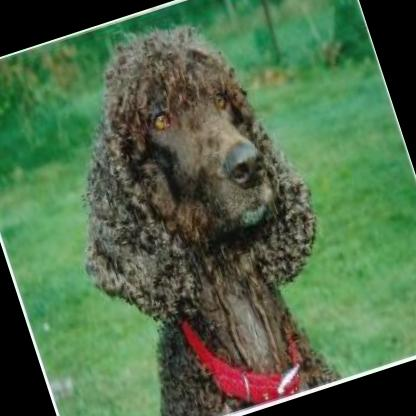Irish_water_spaniel: (20, 0, 365, 416)
